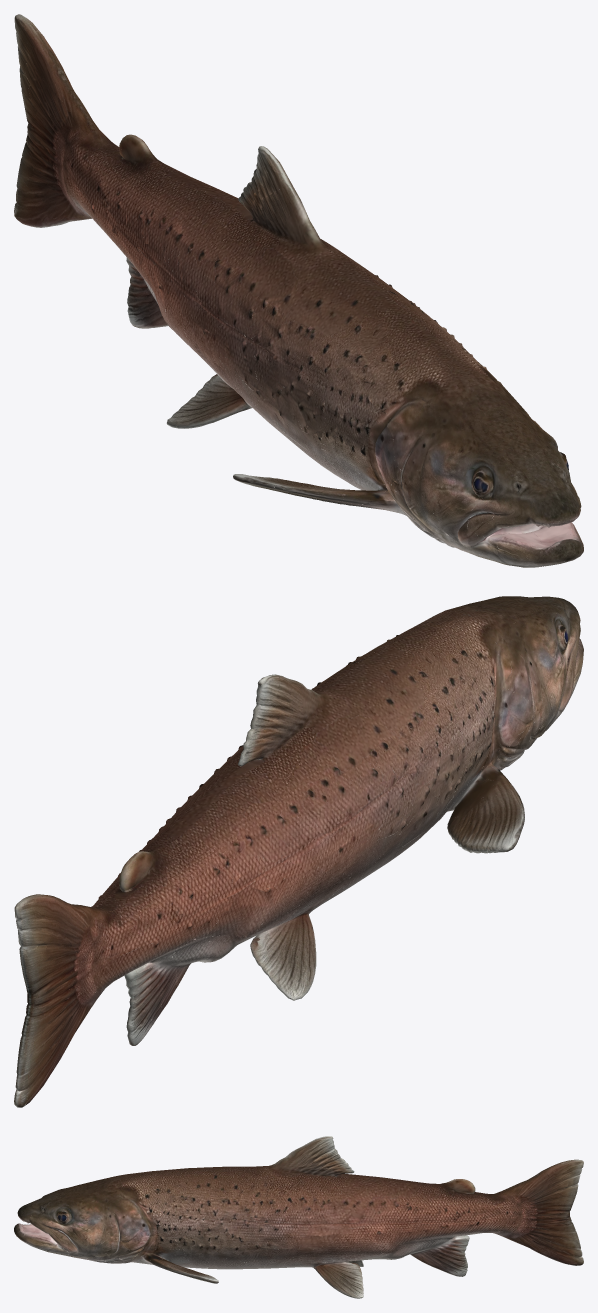
The model's file is glowacica.glb.
3 views of the same model, one above another, from view 1: azimuth 30°, elevation 25°; view 2: azimuth 150°, elevation 25°; view 3: azimuth 270°, elevation 25° (orthographic). The views are drawn at different scales.
Parts seen in each view (by area): view 1: Mesh_0; view 2: Mesh_0; view 3: Mesh_0.
Part boxes in pixels (x1,y1,x2,y2): Mesh_0: (14,14,583,567); Mesh_0: (14,596,583,1107); Mesh_0: (14,1136,583,1298).
Size of the model in its own units: 0.5545 by 0.537 by 1.9.
1 material, 1 textured.
